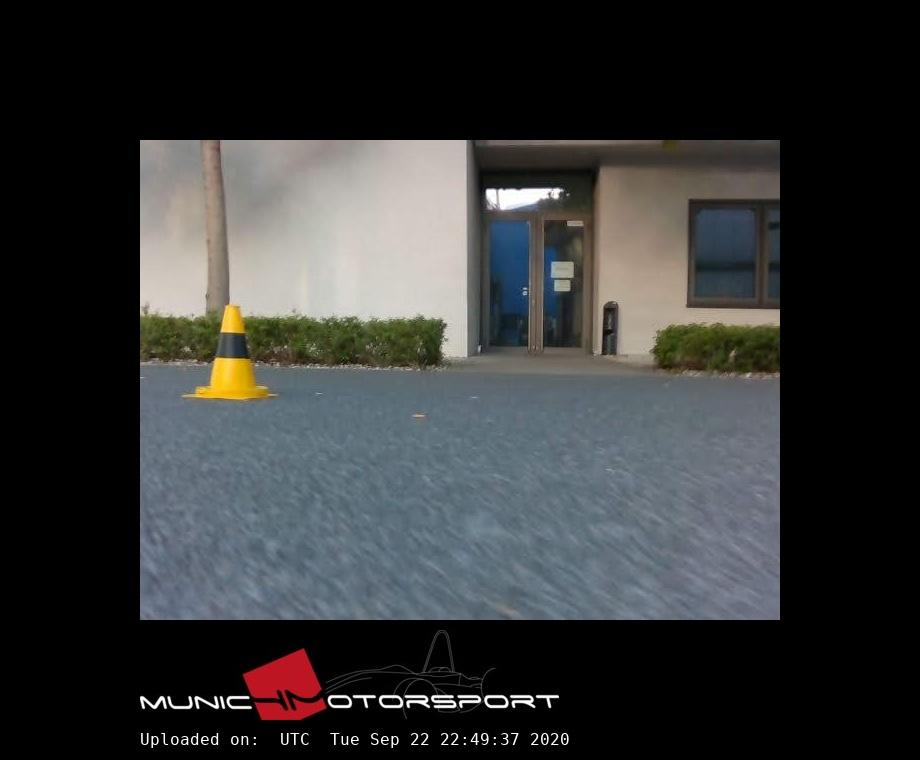yellow_cone: (185, 304, 277, 399)
